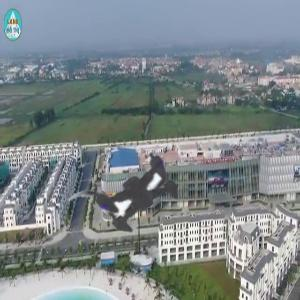drone: (45, 95, 243, 293)
